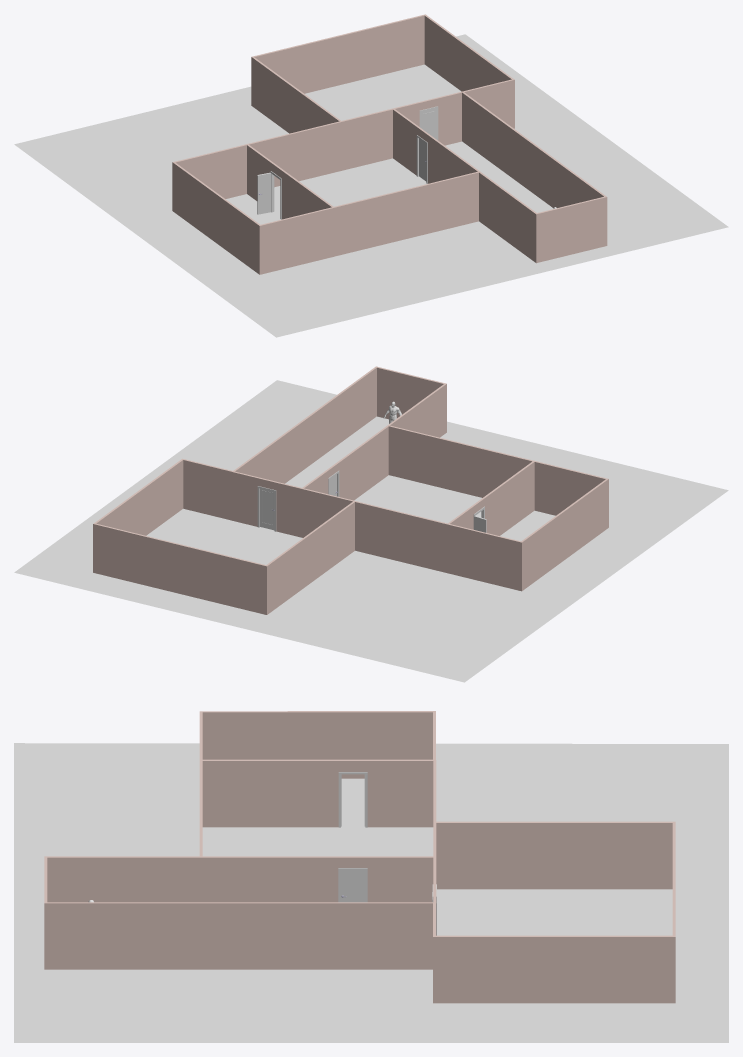
File: environment.fbx
The picture shows the model from 3 angles, top to bottom: view 1: azimuth 30°, elevation 25°; view 2: azimuth 150°, elevation 25°; view 3: azimuth 270°, elevation 25°; orthographic projection. The views are drawn at different scales.
Visible parts, largest first — view 1: Floor.001, Room.001, Room.003, Room.002, Room, Door.002; view 2: Floor.001, Room.003, Room.001, Room, Room.002, Door; view 3: Floor.001, Room.002, Room.003, Room, Room.001, Door.001.
Part boxes in pixels (box(x1,y1,x2,y2)): Floor.001: box(14, 34, 728, 337); Room.001: box(246, 108, 480, 256); Room.003: box(251, 14, 514, 133); Room.002: box(394, 91, 607, 263); Room: box(172, 144, 334, 274); Door.002: box(257, 172, 274, 214); Floor.001: box(14, 380, 728, 682); Room.003: box(93, 458, 354, 614); Room.001: box(301, 425, 534, 573); Room: box(448, 461, 608, 591); Room.002: box(232, 366, 446, 537); Door: box(260, 488, 274, 530); Floor.001: box(14, 743, 728, 1042); Room.002: box(44, 856, 436, 969); Room.003: box(433, 821, 675, 1003); Room: box(199, 711, 435, 827); Room.001: box(199, 759, 436, 902); Door.001: box(340, 870, 365, 902).
Bounding box in the file's own units: 2440 × 253 × 2460.
